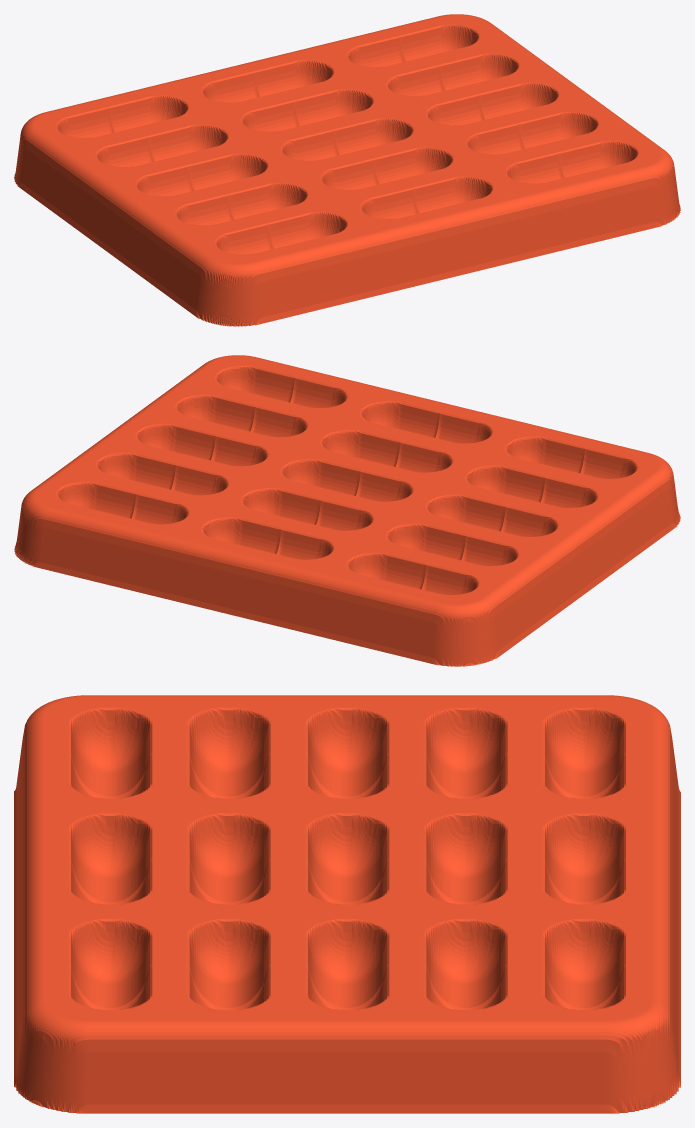
Rendered from mold.glb.
The picture shows the model from 3 angles, top to bottom: view 1: azimuth 30°, elevation 25°; view 2: azimuth 150°, elevation 25°; view 3: azimuth 270°, elevation 25°; orthographic projection. The views are drawn at different scales.
Visible parts, largest first — view 1: geometry_0; view 2: geometry_0; view 3: geometry_0.
Part boxes in pixels (x1=…): geometry_0: x1=14, y1=14, x2=680, y2=326; geometry_0: x1=14, y1=355, x2=680, y2=666; geometry_0: x1=14, y1=695, x2=680, y2=1113.
Bounding box in the file's own units: 0.1007 × 0.0108 × 0.0814.
